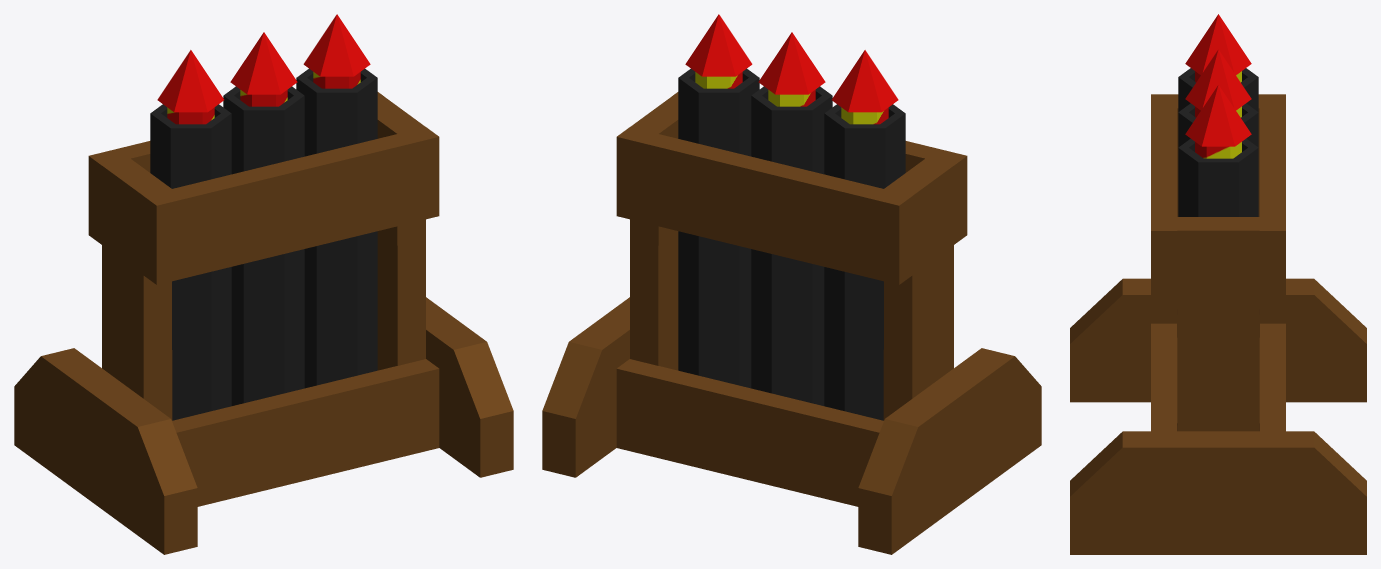
Rendered from Fireworks_Pickup 1.fbx.
3 renders of one model, left to right at view 1: azimuth 30°, elevation 25°; view 2: azimuth 150°, elevation 25°; view 3: azimuth 270°, elevation 25°, orthographic.
Visible parts, largest first — view 1: fireworks_holder, fireworks.001, fireworks.002, fireworks.003; view 2: fireworks_holder, fireworks.001, fireworks.002, fireworks.003; view 3: fireworks_holder, fireworks.003, fireworks.001, fireworks.002.
Part boxes in pixels (left/top/right/bottom): fireworks_holder: left=14, top=68, right=513, bottom=554; fireworks.001: left=157, top=50, right=224, bottom=124; fireworks.002: left=230, top=32, right=297, bottom=106; fireworks.003: left=303, top=14, right=370, bottom=88; fireworks_holder: left=542, top=68, right=1041, bottom=554; fireworks.001: left=831, top=50, right=898, bottom=124; fireworks.002: left=758, top=32, right=825, bottom=106; fireworks.003: left=685, top=14, right=752, bottom=88; fireworks_holder: left=1070, top=68, right=1366, bottom=554; fireworks.003: left=1185, top=85, right=1251, bottom=158; fireworks.001: left=1185, top=14, right=1251, bottom=82; fireworks.002: left=1185, top=49, right=1251, bottom=117.
Bounding box in the file's own units: 77.75 × 90.5 × 57.76.
